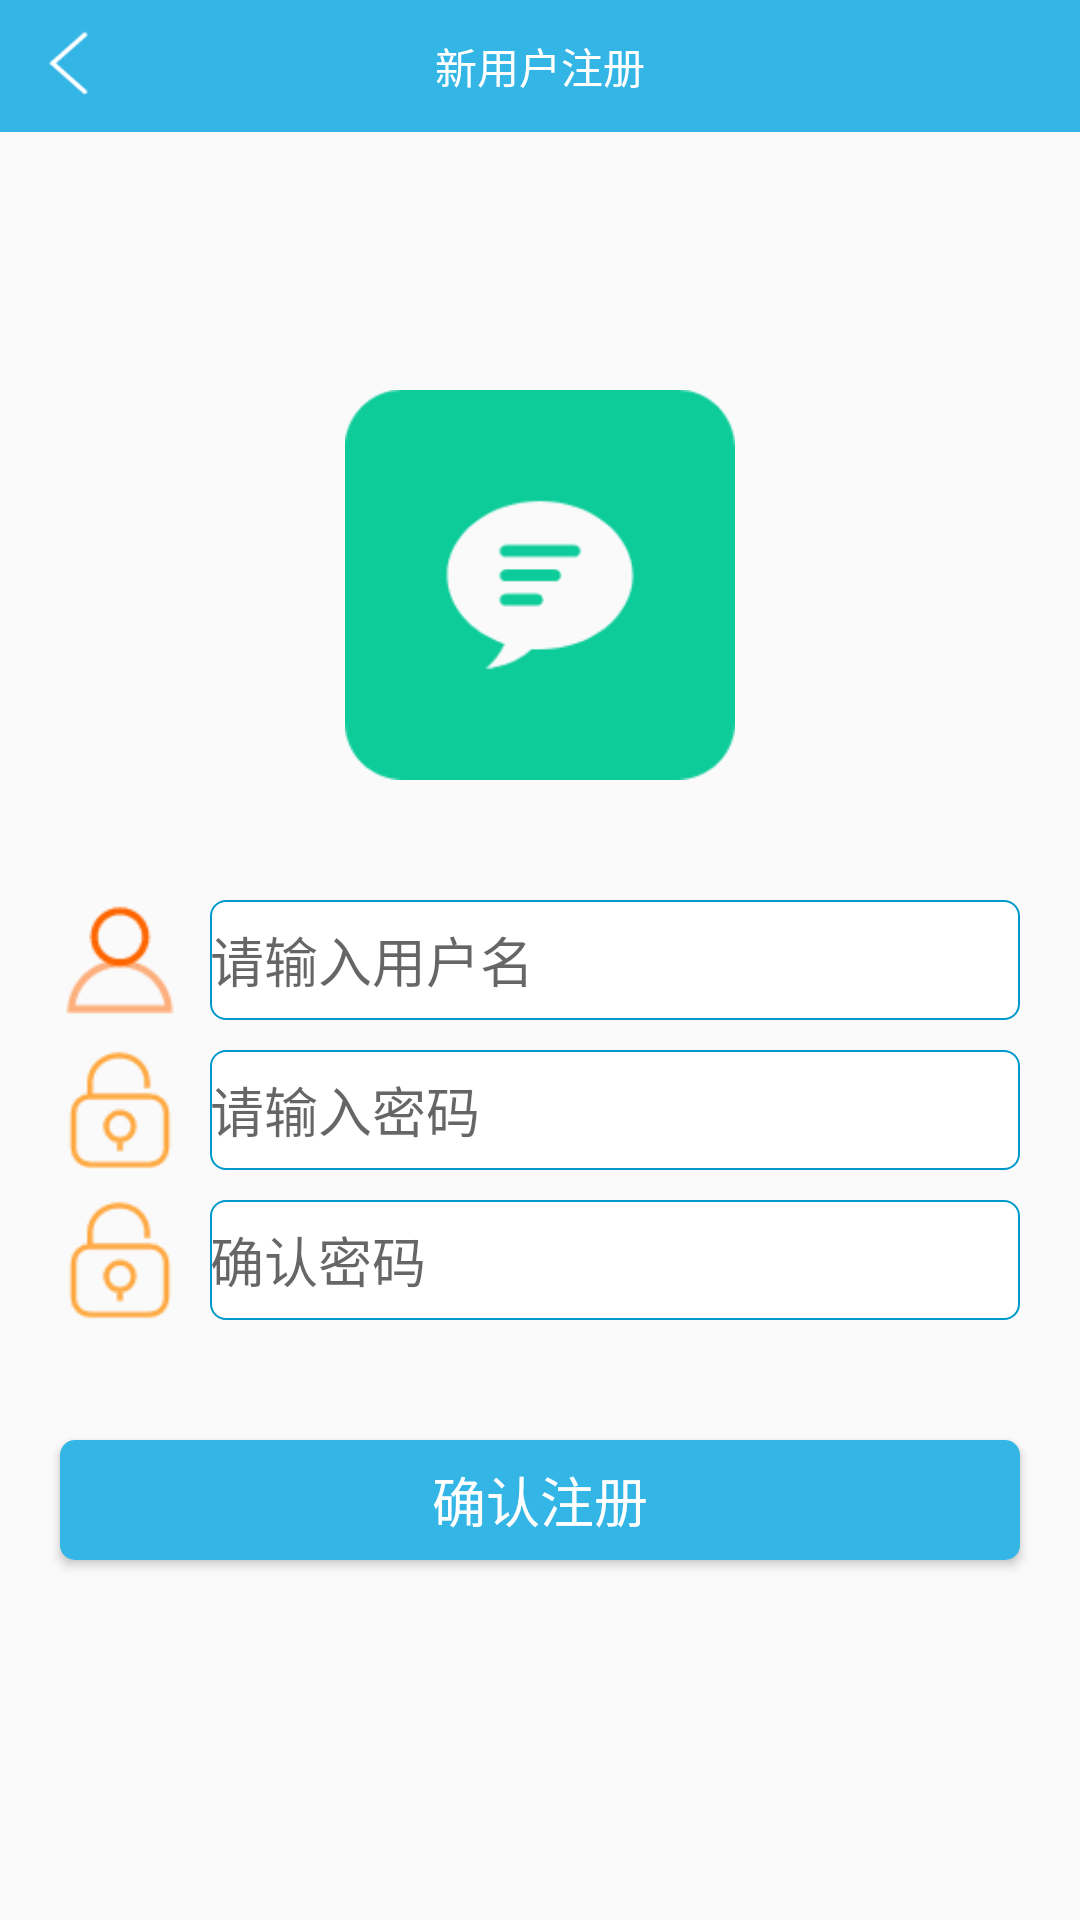

Named icons in this screenshot (1080 × 1920) and their bounding boxes, (x1, y1, x2, y2):
back: (49, 32, 88, 94)
password: (69, 1052, 171, 1168), (69, 1202, 171, 1318)
